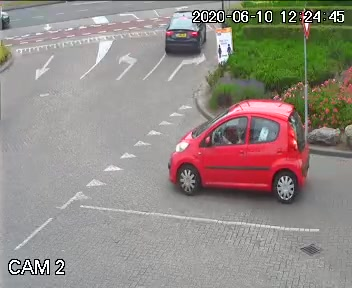car: (160, 93, 313, 204), (158, 15, 209, 63)
